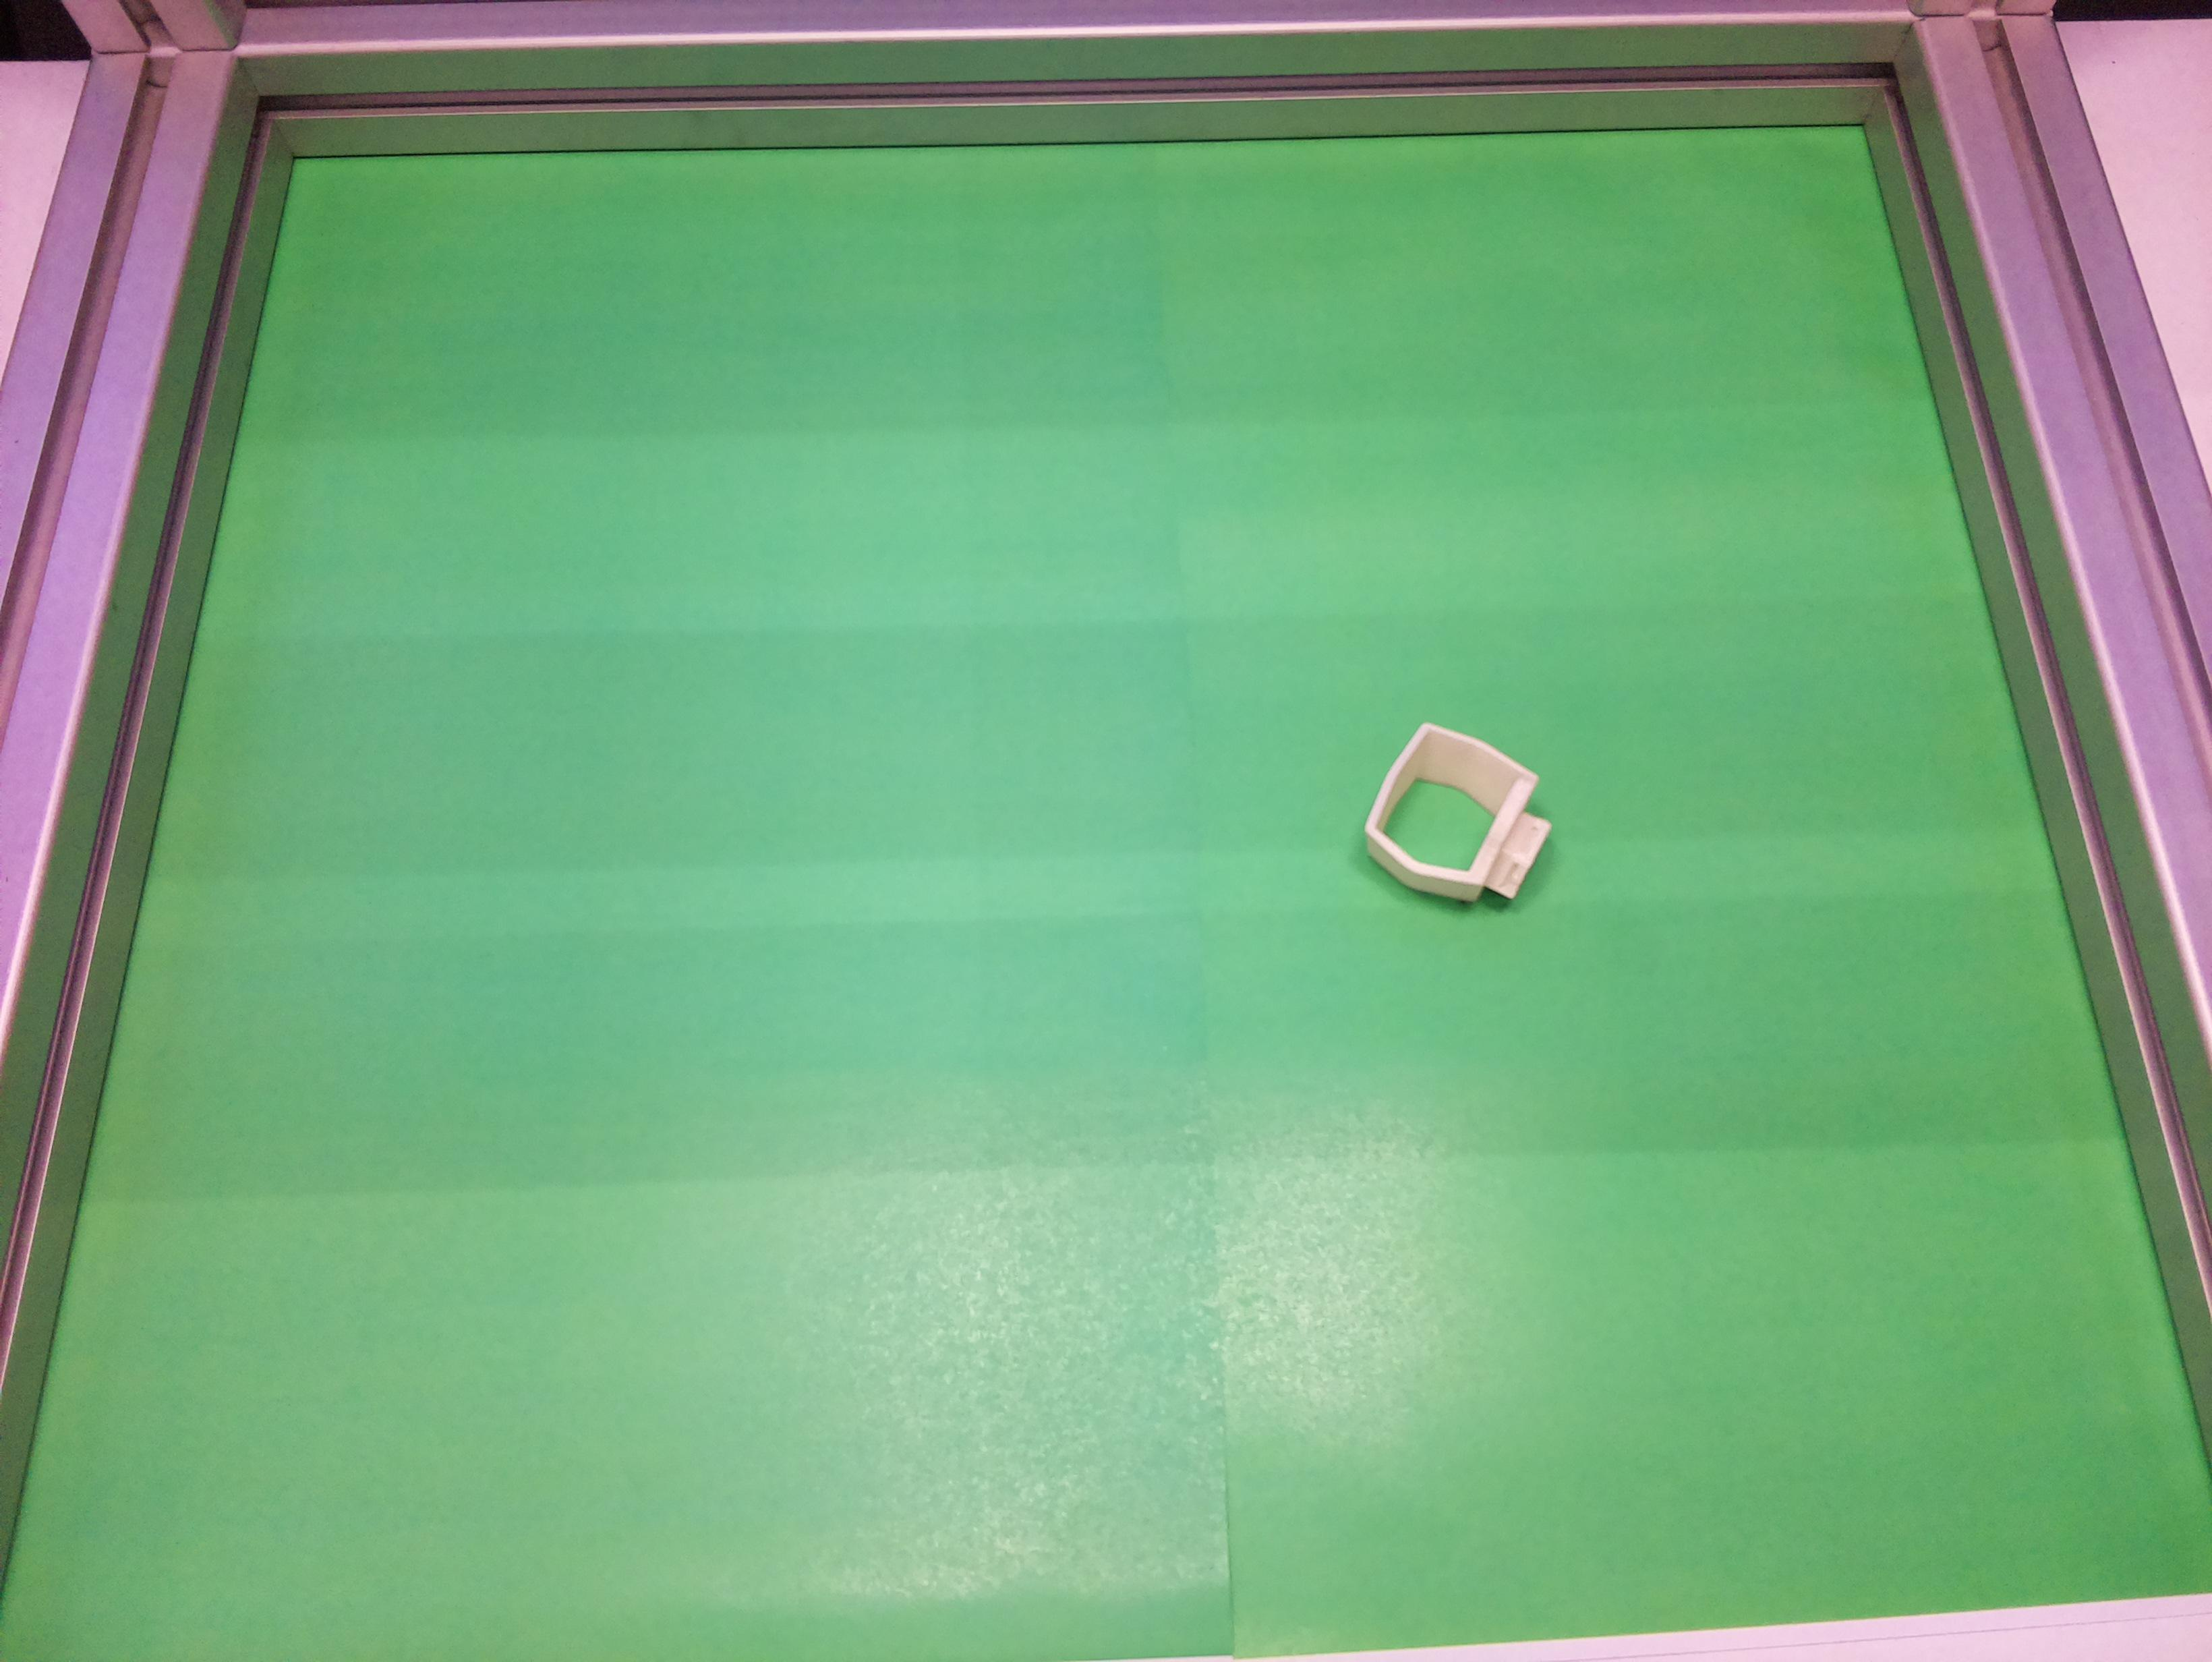tool_holder: (1346, 709, 1573, 934)
